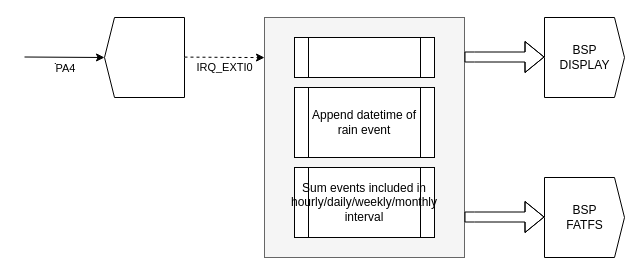
Some shapes in this 642 by 275 pixel diagram are drawn without their labels. The centre of each missing label's shape, as x and y in pixels:
"GPIO_EXTI0" belongs at point 144,57.
"Read" belongs at point 364,57.
